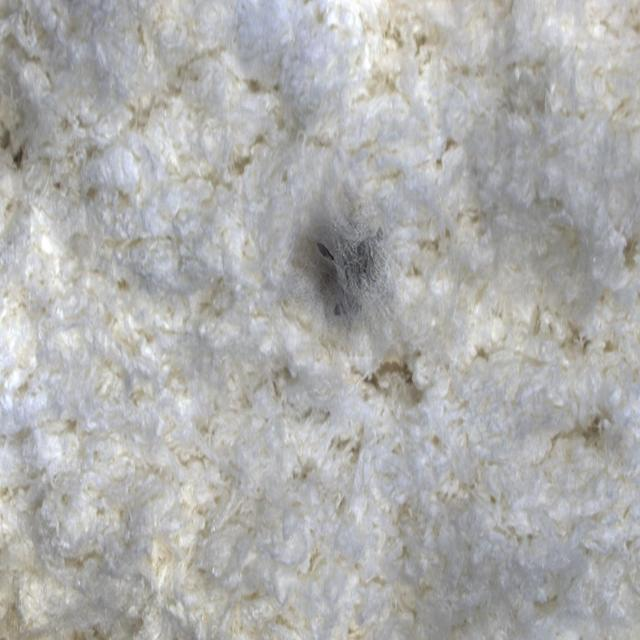dust: (223, 148, 434, 363)
